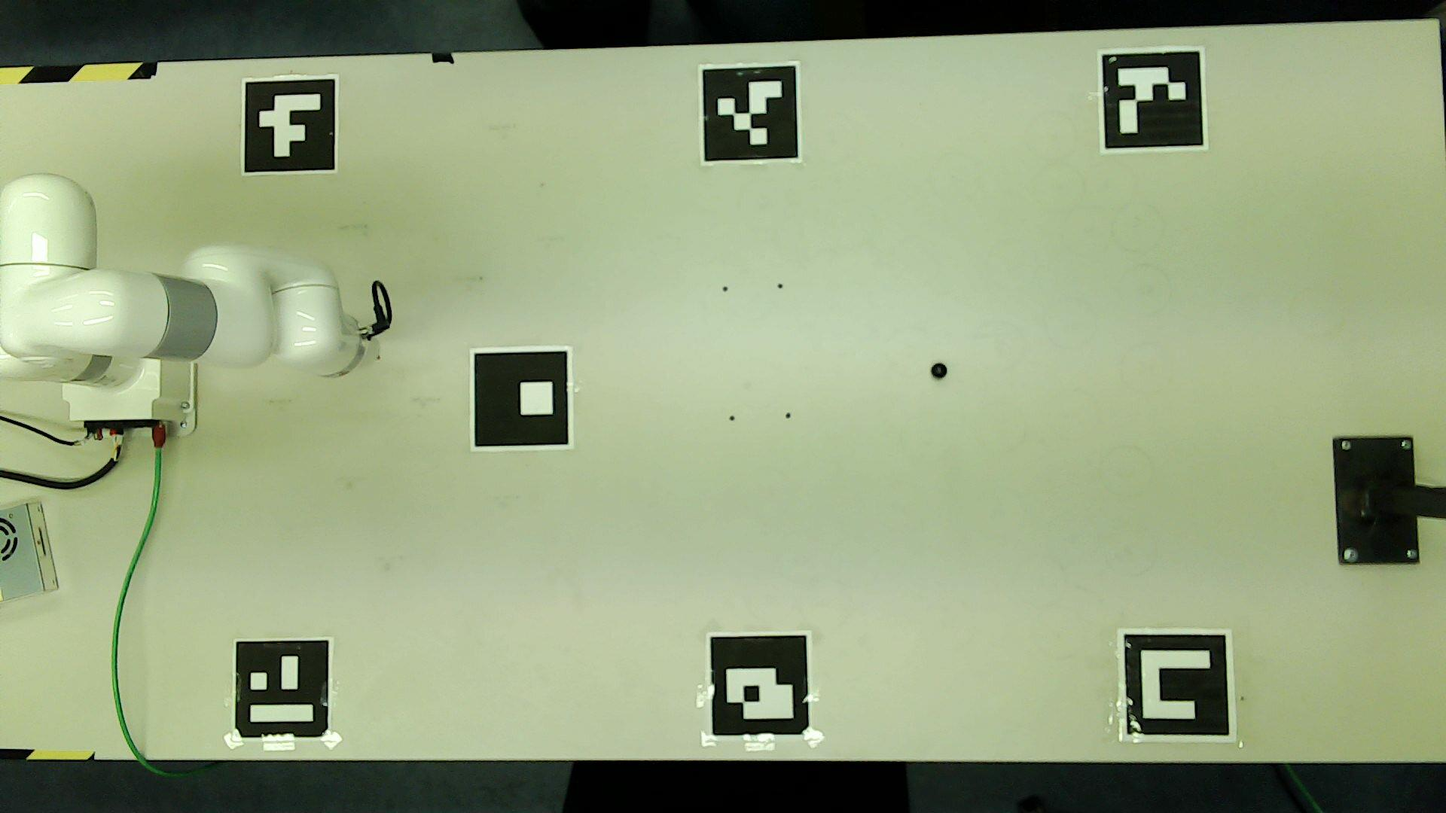ball: (932, 364, 946, 378)
